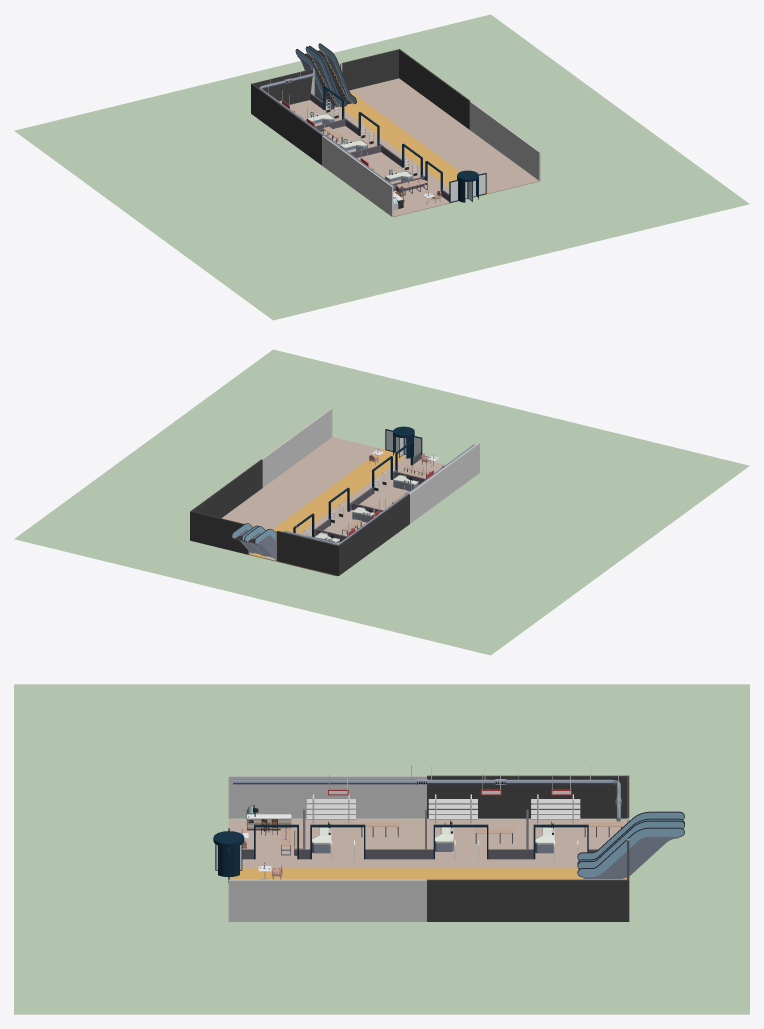
Rendered from 3d-low-poly-shoppingmall-scene.glb.
The picture shows the model from 3 angles, top to bottom: view 1: azimuth 30°, elevation 25°; view 2: azimuth 150°, elevation 25°; view 3: azimuth 270°, elevation 25°; orthographic projection. The views are drawn at different scales.
Visible parts, largest first — view 1: Background, Ground, Walls.001, Walls, Escalator, Revolving-door, Escalator.001, Pipes, Inner-walls; view 2: Background, Ground, Walls, Walls.001, Revolving-door, Escalator, Pipes, Inner-walls; view 3: Background, Walls.001, Ground, Walls, Escalator.001, Pipes, Revolving-door, Inner-walls, Shelf1, Shelf2, Shelf3, Escalator (+2 smaller).
Boxes of the visible parts, bbox=[...] form: Background: bbox=[14, 14, 749, 320]; Ground: bbox=[289, 78, 539, 216]; Walls.001: bbox=[340, 49, 540, 181]; Walls: bbox=[251, 68, 393, 216]; Escalator: bbox=[295, 46, 341, 109]; Revolving-door: bbox=[449, 170, 486, 202]; Escalator.001: bbox=[308, 43, 356, 106]; Pipes: bbox=[259, 66, 395, 189]; Inner-walls: bbox=[349, 143, 449, 201]; Background: bbox=[14, 349, 749, 655]; Ground: bbox=[222, 437, 445, 576]; Walls: bbox=[275, 443, 479, 575]; Walls.001: bbox=[190, 408, 332, 554]; Revolving-door: bbox=[385, 426, 422, 458]; Escalator: bbox=[244, 526, 275, 558]; Pipes: bbox=[283, 444, 474, 545]; Inner-walls: bbox=[349, 452, 425, 512]; Background: bbox=[14, 684, 749, 1014]; Walls.001: bbox=[228, 839, 629, 921]; Ground: bbox=[228, 819, 626, 879]; Walls: bbox=[228, 775, 629, 822]; Escalator.001: bbox=[577, 820, 684, 878]; Pipes: bbox=[233, 765, 621, 821]; Revolving-door: bbox=[213, 828, 244, 882]; Inner-walls: bbox=[242, 809, 433, 859]; Shelf1: bbox=[306, 794, 355, 823]; Shelf2: bbox=[428, 794, 477, 823]; Shelf3: bbox=[531, 794, 580, 823]; Escalator: bbox=[577, 811, 684, 863].
Bounding box in the file's own units: 50.29 × 4.07 × 47.35.
Materials: 19 (18 with a texture image).
